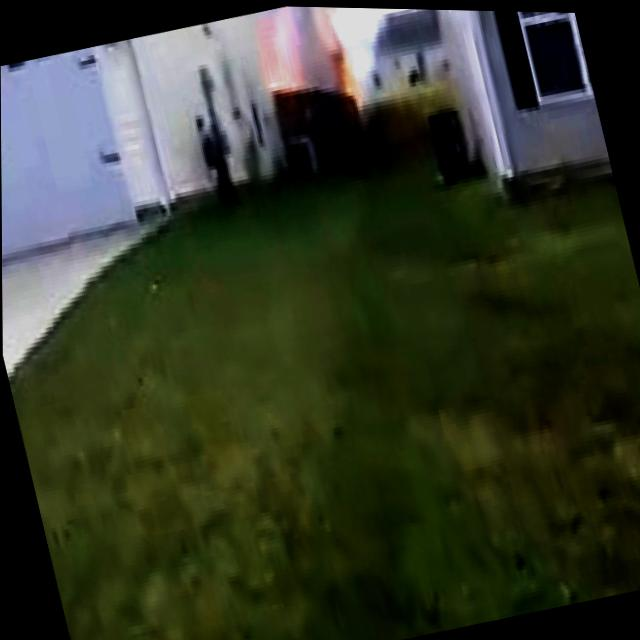fire: (252, 4, 321, 99)
